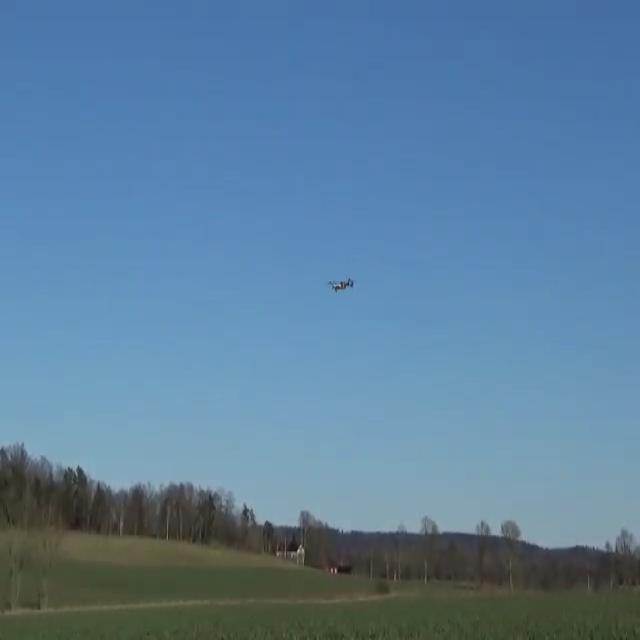Drone: (316, 266, 366, 300)
